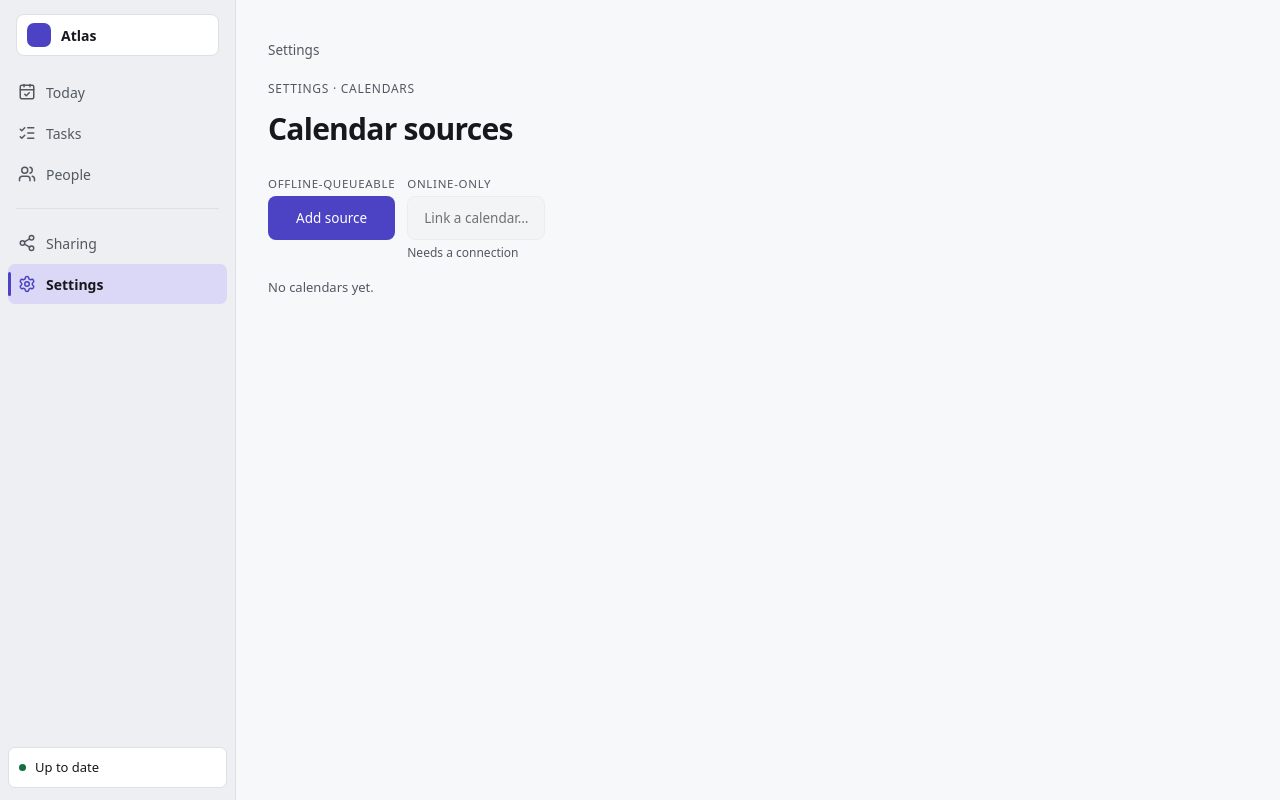
Test: Add source (queued, credential-free) › validates in place, then queues ONE create on /calendar-commands with no secret, and shows it as pending until the server has it
The image size is (1280, 800).
Expected: the heading "Calendar sources" is shown, [268,108,513,149]
Click the button "Add source" at (332, 218), box [268,196,395,240]
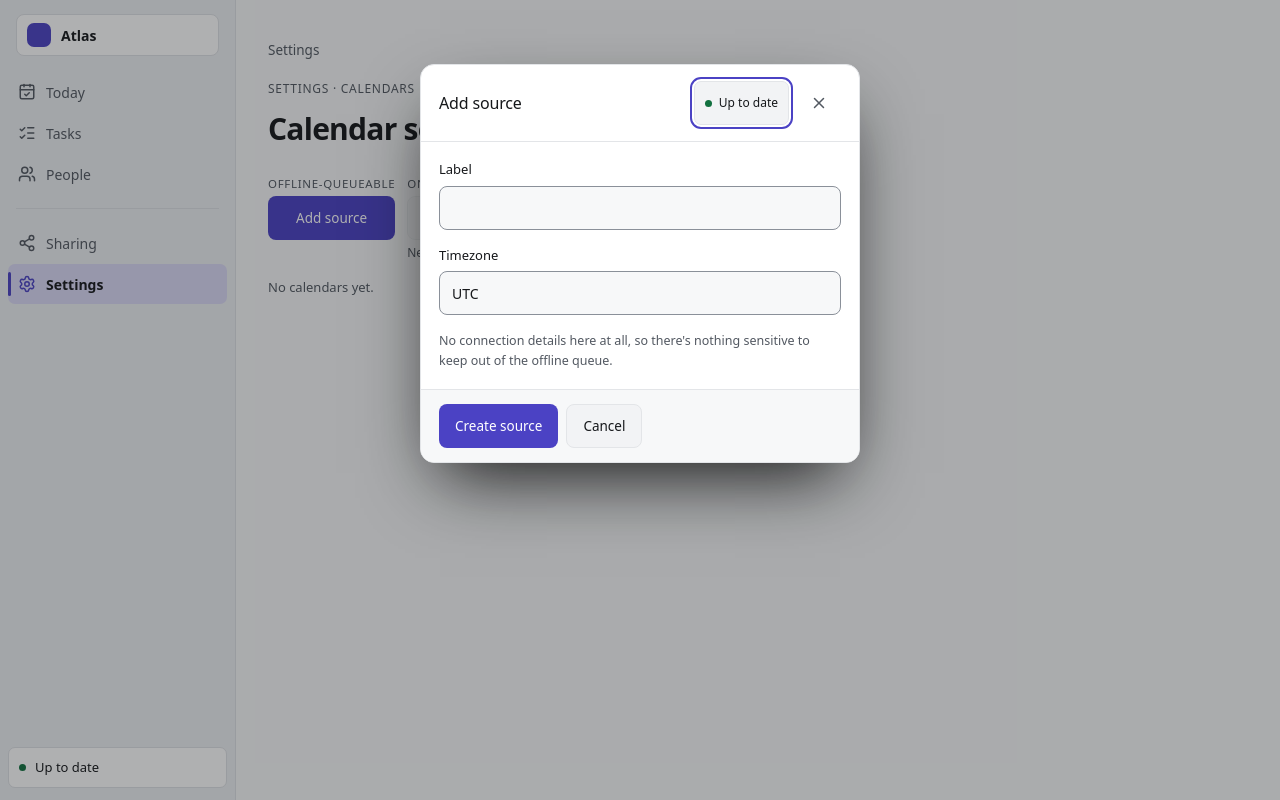
Expected: the text "No connection details here at all, so there's nothing sensitive to keep out of the offline queue." is shown, [439,332,810,369]
Click the button "Create source" at (499, 426), box [439,404,558,448]
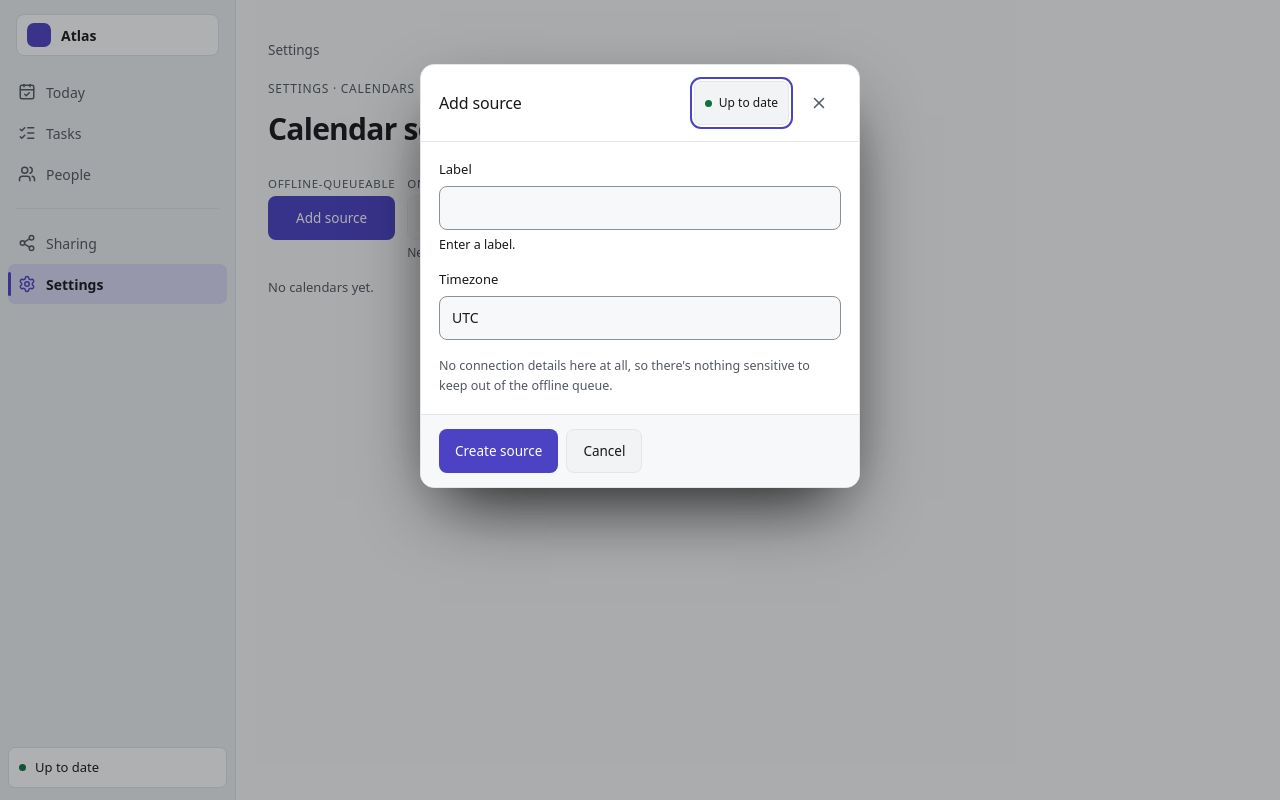
Expected: the text "Enter a label." is shown, [439,236,516,252]
Replace the text in the field labelled "Timezone" with "Mars/Base" at (640, 318), box [439,296,841,340]
Type "Weekend chores" into the field labelled "Label" at (640, 208), box [439,186,841,230]
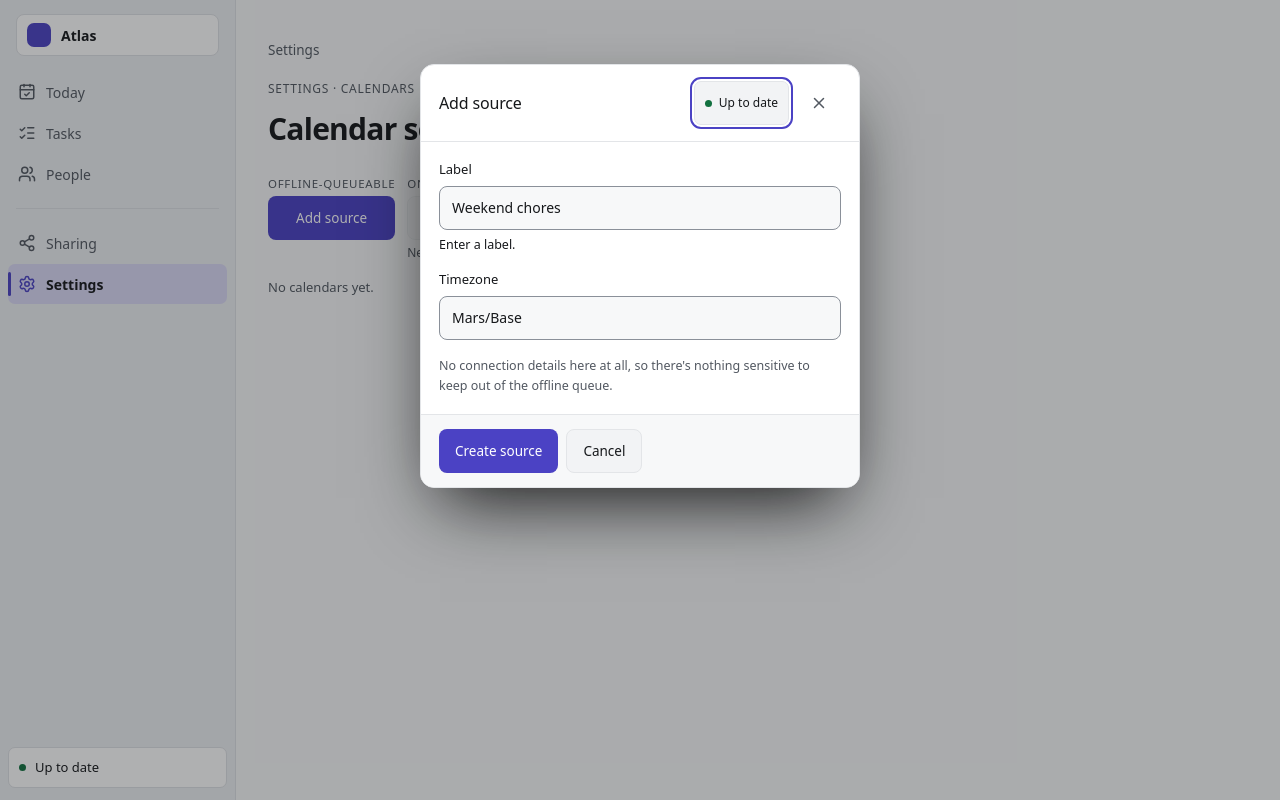
Click the button "Create source" at (499, 451), box [439,429,558,473]
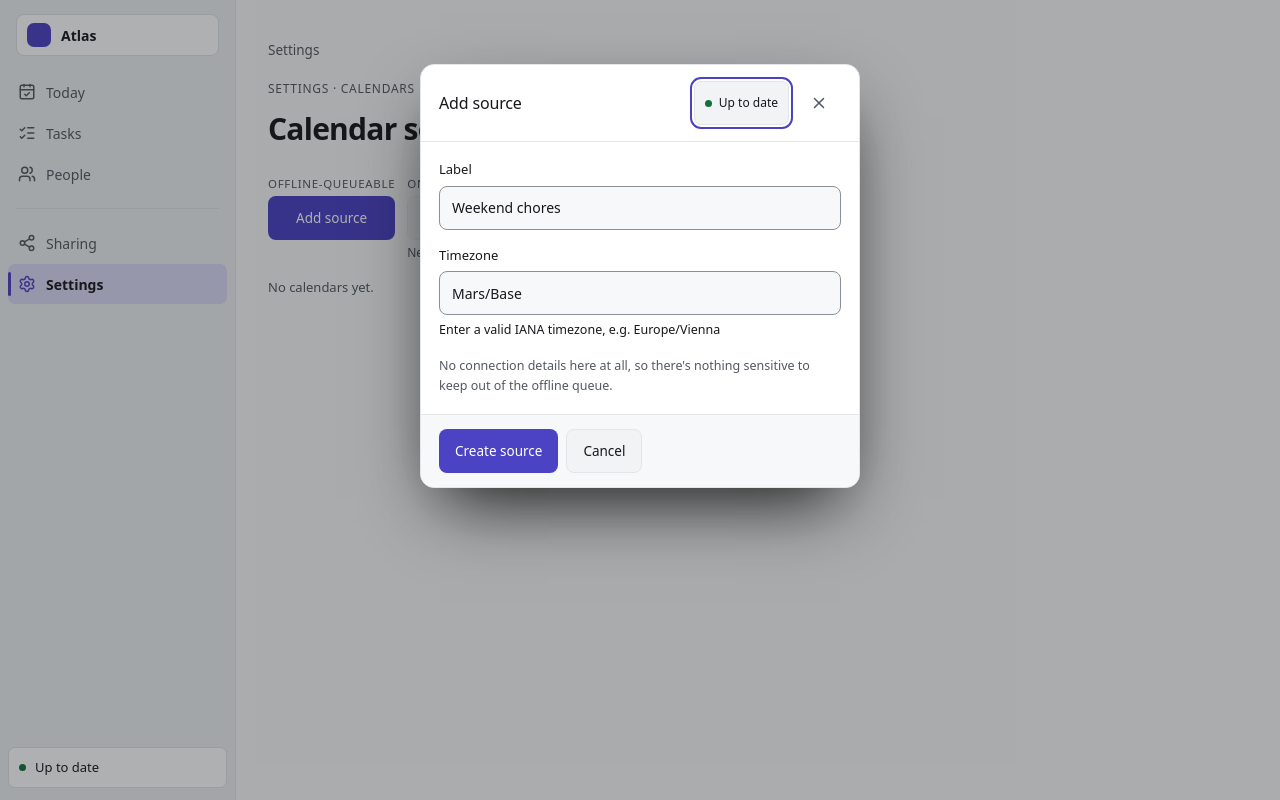
Expected: the text "Enter a valid IANA timezone, e.g. Europe/Vienna" is shown, [439,321,720,338]
Replace the text in the field labelled "Timezone" with "Europe/London" at (640, 293), box [439,271,841,315]
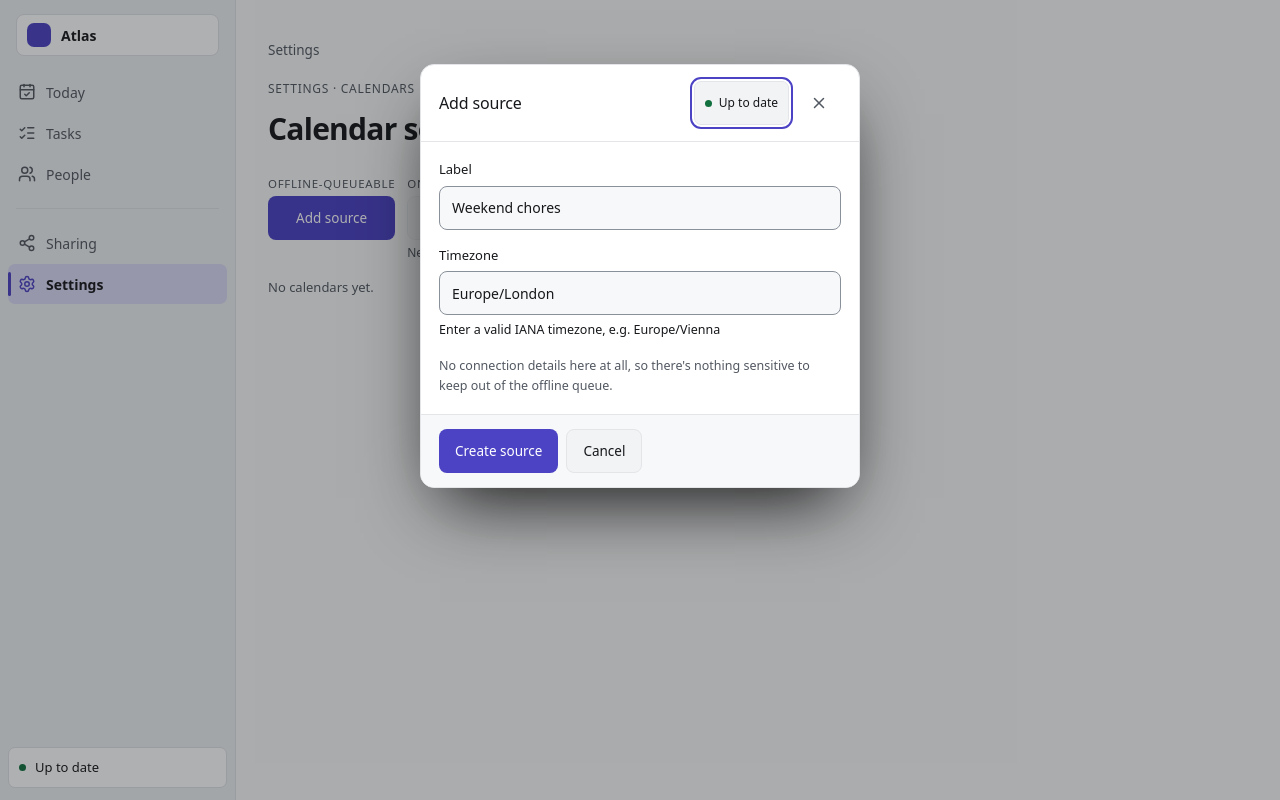
Click the button "Create source" at (499, 451), box [439,429,558,473]
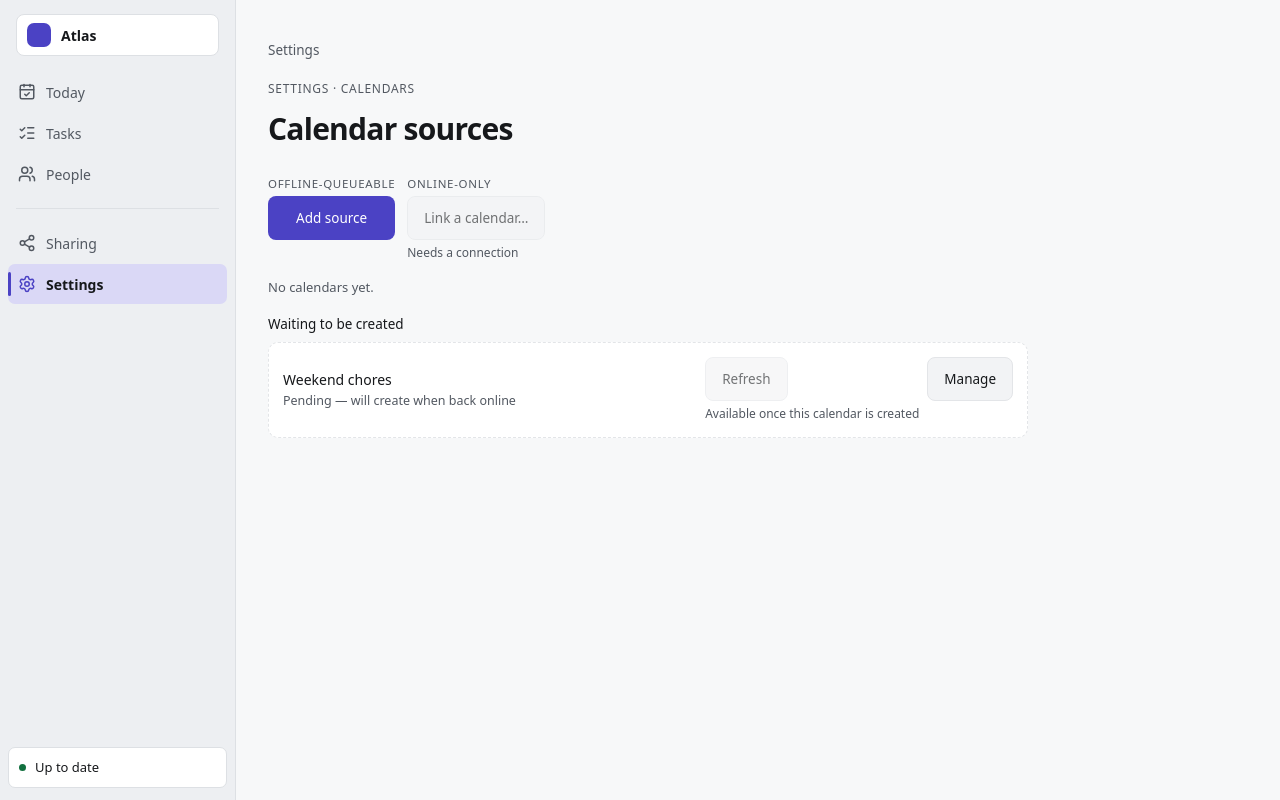
Expected: the dialog is gone
Expected: the list item "Weekend chores" shows "Pending — will create when back online", [283,392,516,409]
Expected: the heading "Waiting to be created" is shown, [268,315,404,333]
